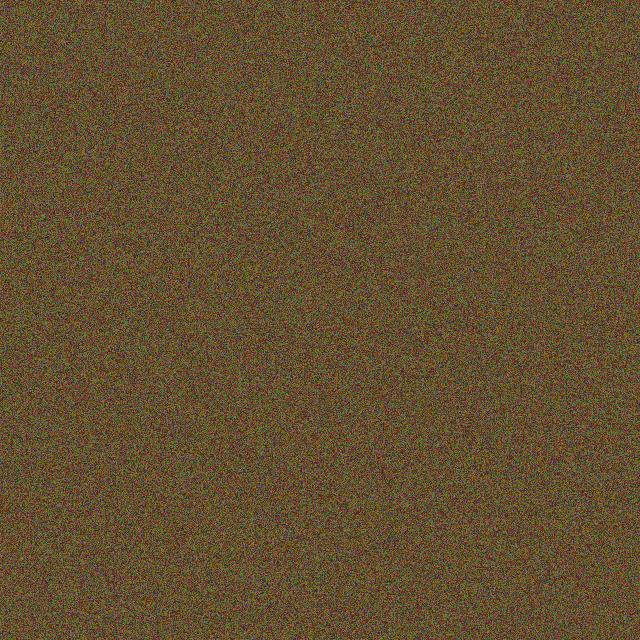ghost_net: (430, 141, 475, 209)
